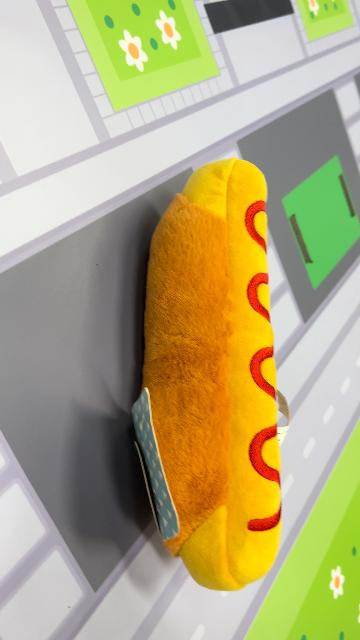hotdog: (132, 156, 286, 594)
